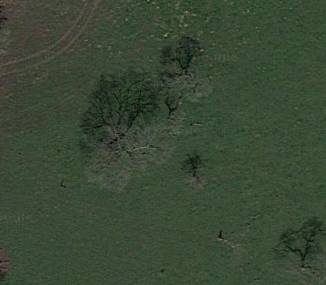tree: (76, 109, 175, 197), (162, 54, 219, 106)
